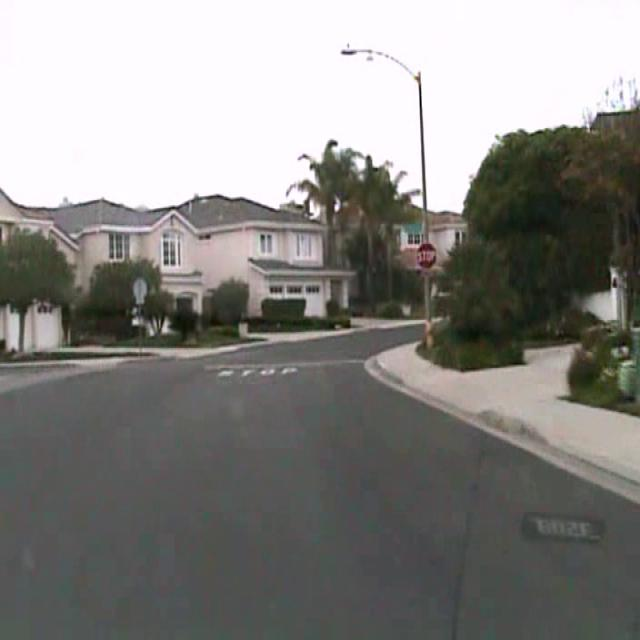stop: (416, 240, 438, 272)
